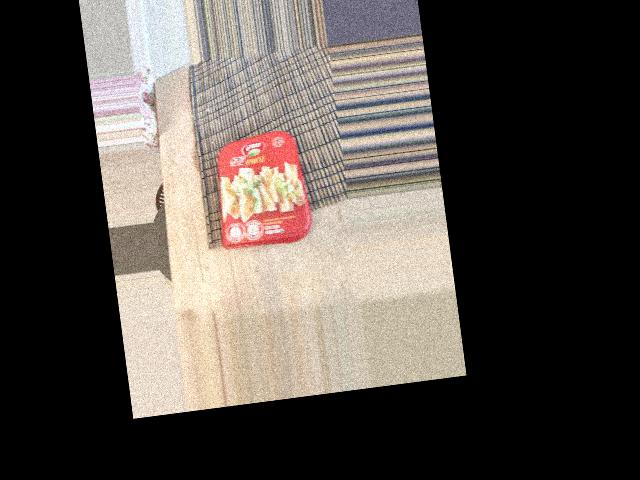cheese: (215, 130, 305, 254)
